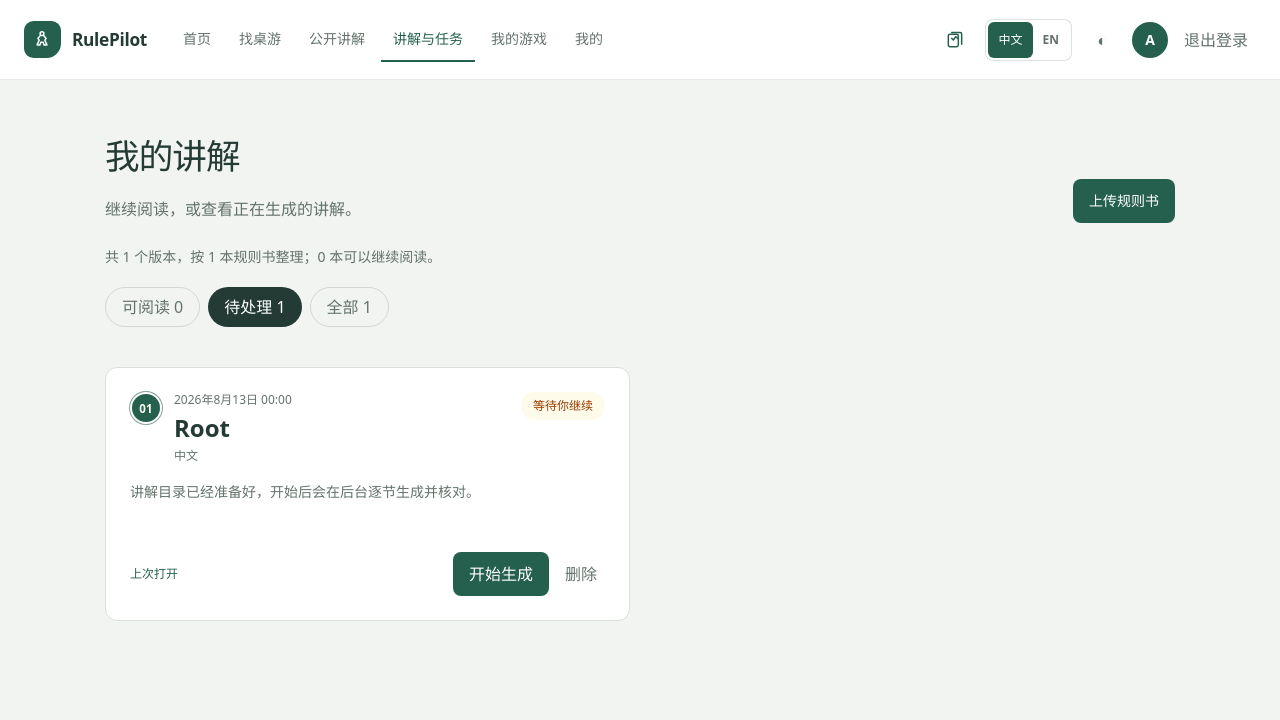
Test: LessonsView › deletes one guide only after confirmation and leaves a failed target available for retry
Click the button "删除" at (581, 574), box [557,554,605,594]
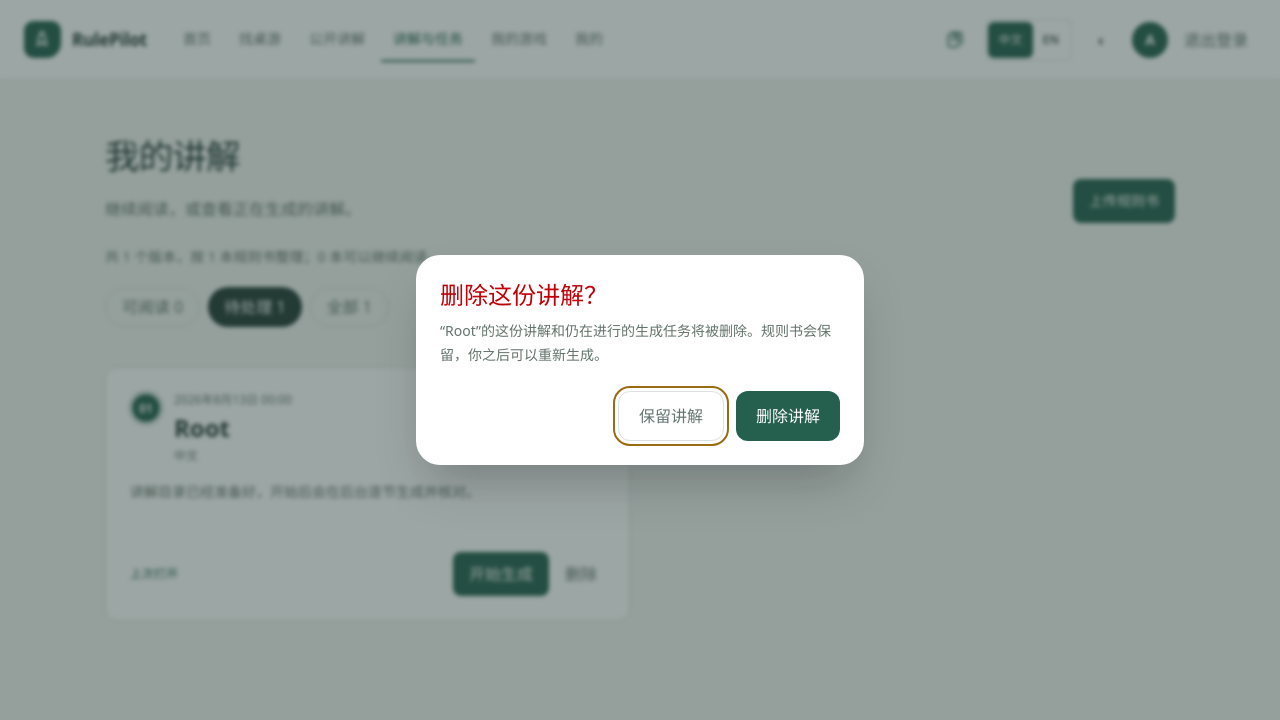
Expected: the dialog shows "Root", [440,321,831,364]
Expected: the button "保留讲解" is shown, [618,391,724,441]
Click the button "删除讲解" at (788, 416), box [736,391,840,441]
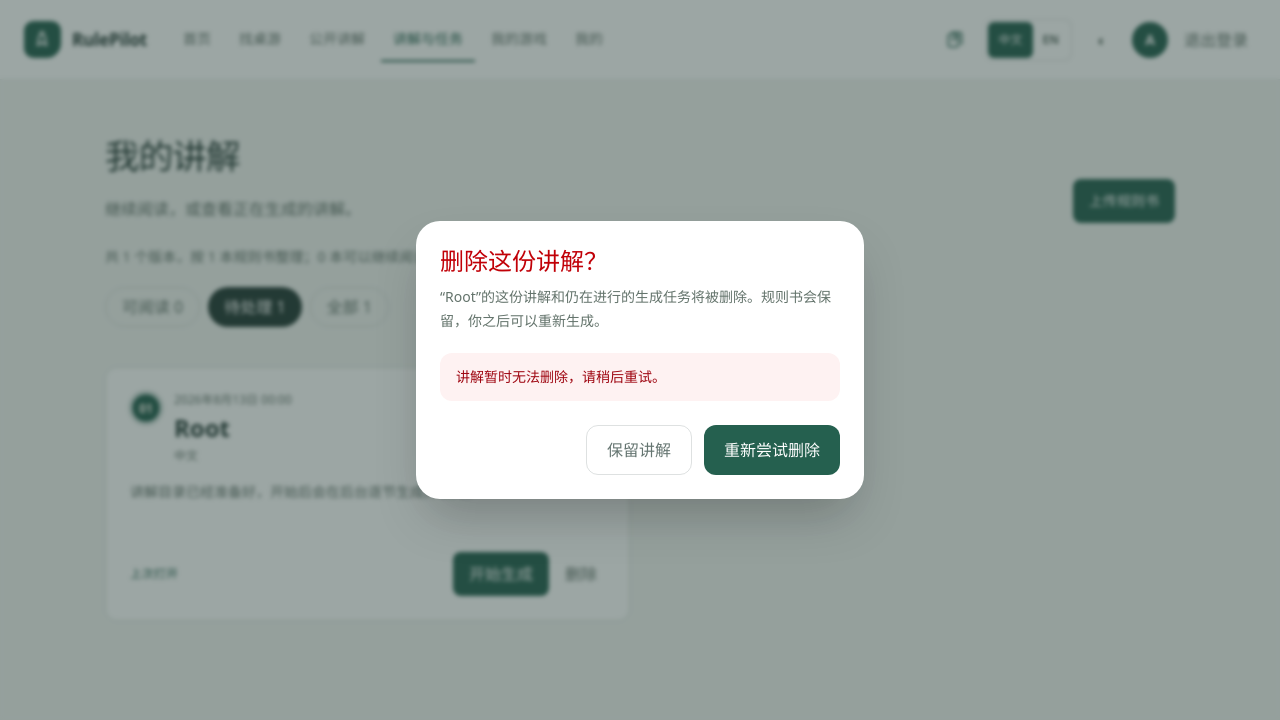
Expected: the text "Root" is shown, [174,411,230,444]
Expected: the dialog shows "讲解暂时无法删除", [456,367,666,386]
Click the button "重新尝试删除" at (772, 450), box [704,425,840,475]
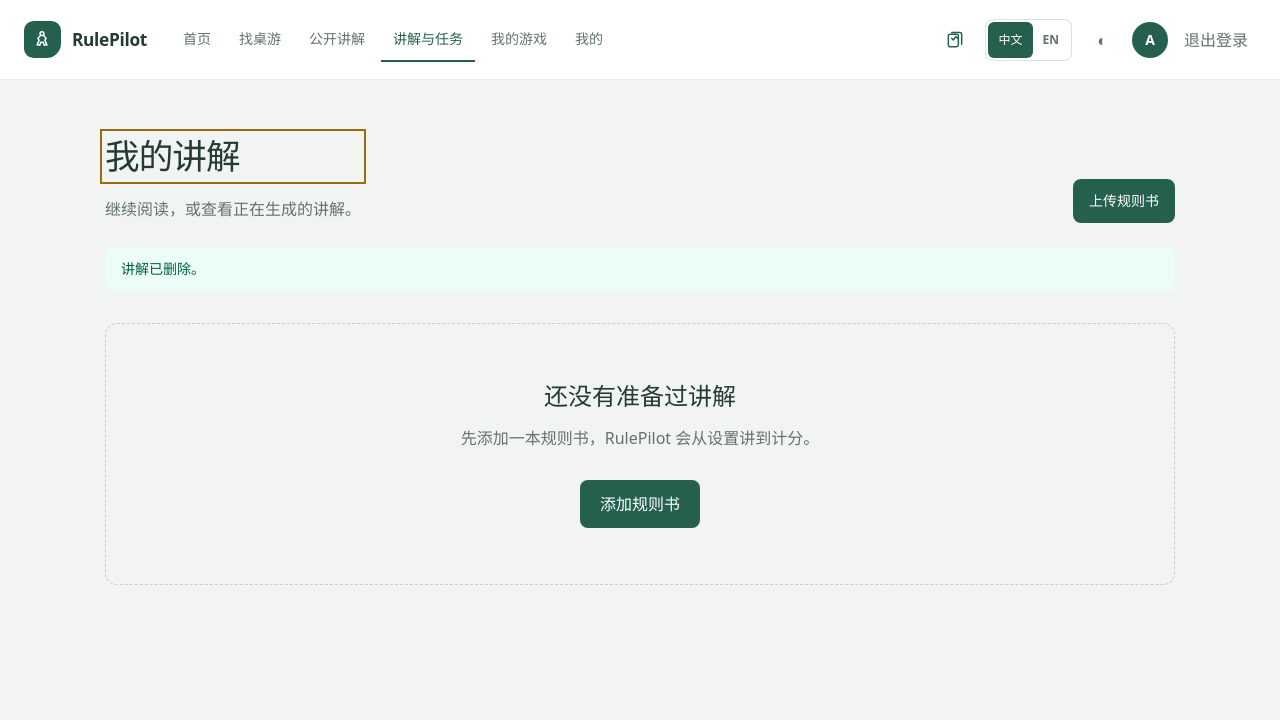
Expected: the dialog is gone
Expected: the text "Root" is gone
Expected: the text "讲解已删除" is shown, [121,259,205,278]
